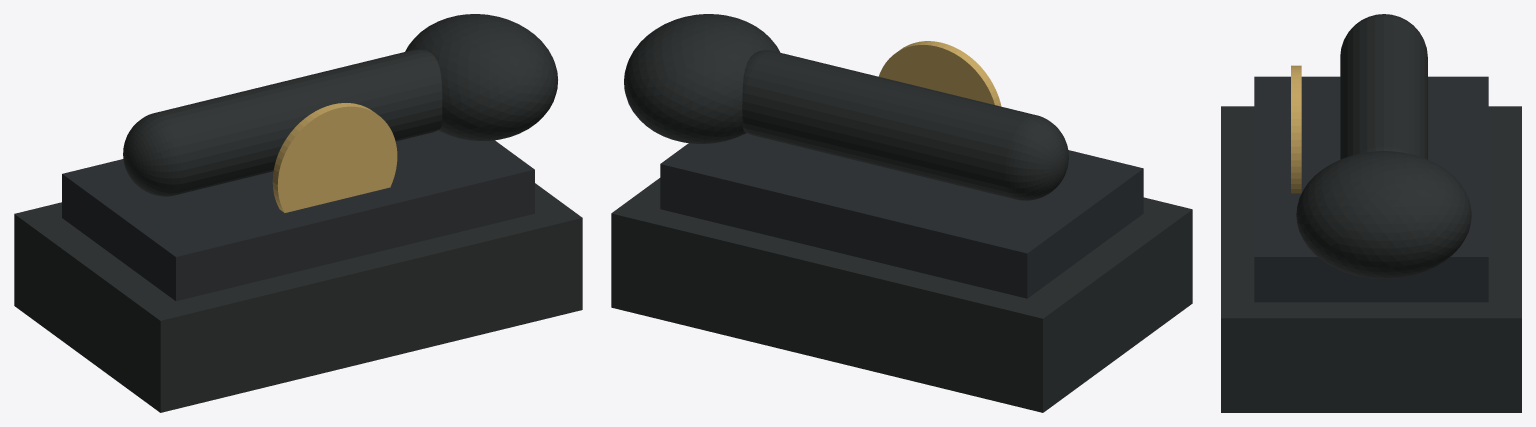
The model's file is desk_phone.glb.
3 renders of one model, left to right at view 1: azimuth 30°, elevation 25°; view 2: azimuth 150°, elevation 25°; view 3: azimuth 270°, elevation 25°, orthographic. The views are drawn at different scales.
Visible parts, largest first — view 1: PhoneBase, PhoneBaseTop, ReceiverHandle, ReceiverBell, DialInset; view 2: PhoneBase, PhoneBaseTop, ReceiverHandle, ReceiverBell, DialInset; view 3: PhoneBase, PhoneBaseTop, ReceiverBell, ReceiverHandle, DialInset.
Part boxes in pixels (x1,y1,x2,y2): PhoneBase: [14, 183, 582, 412]; PhoneBaseTop: [62, 130, 534, 301]; ReceiverHandle: [123, 49, 442, 196]; ReceiverBell: [405, 14, 557, 140]; DialInset: [272, 103, 397, 212]; PhoneBase: [611, 178, 1192, 412]; PhoneBaseTop: [660, 133, 1143, 298]; ReceiverHandle: [742, 50, 1068, 200]; ReceiverBell: [624, 14, 780, 143]; DialInset: [878, 41, 1001, 106]; PhoneBase: [1221, 106, 1521, 412]; PhoneBaseTop: [1254, 76, 1488, 302]; ReceiverBell: [1296, 151, 1471, 278]; ReceiverHandle: [1340, 14, 1427, 159]; DialInset: [1291, 65, 1301, 193].
Size of the model in its own units: 1.32 by 0.634 by 0.72.
